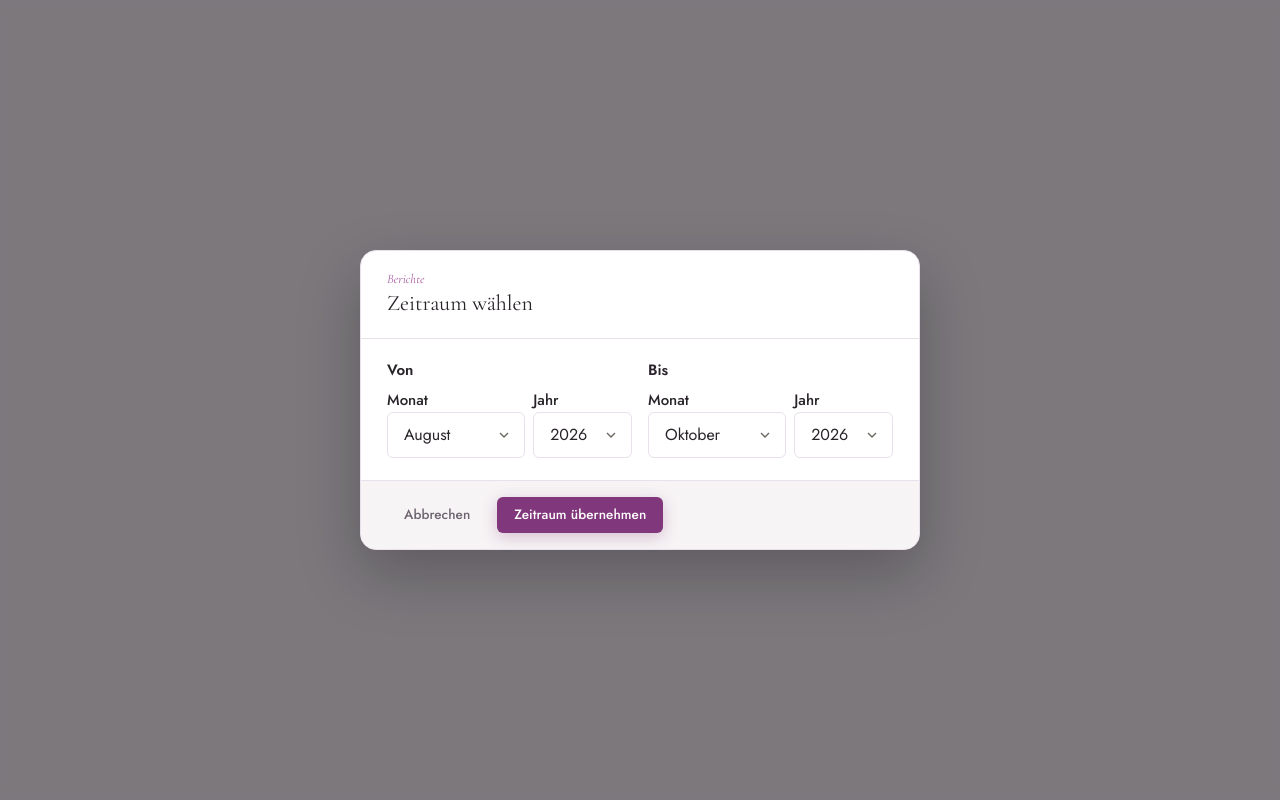
Test: PeriodRangeDialog — validation › a „Bis“ after the current month is refused
This screenshot has width=1280, height=800.
expect the dropdown labelled "Monat" below "Von" shows "August": met, box [387, 412, 525, 458]
Select "November" in the dropdown labelled "Monat" below "Bis" at coordinates (717, 435), box [648, 412, 786, 458]
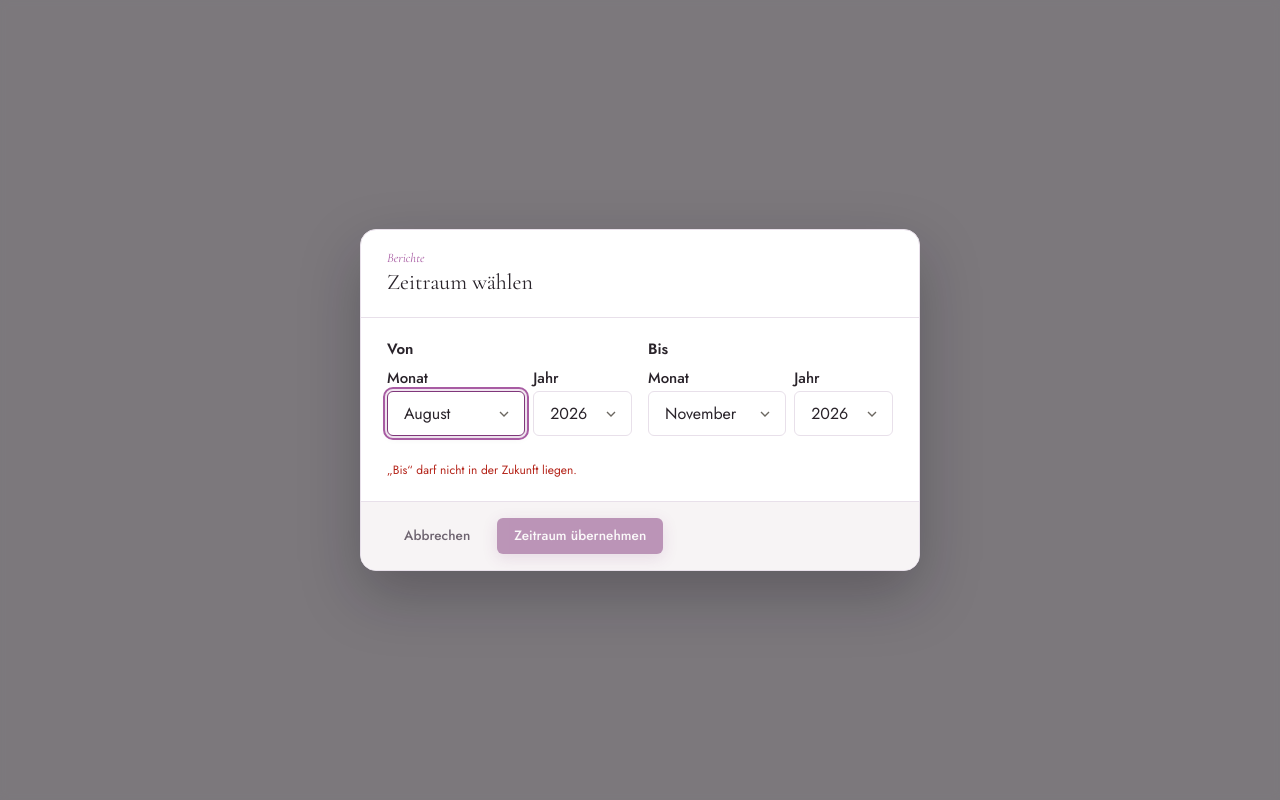
expect the message reads "„Bis“ darf nicht in der Zukunft liegen.": met, box [387, 462, 577, 480]
expect the button "Zeitraum übernehmen" is disabled: met, box [497, 518, 663, 554]
